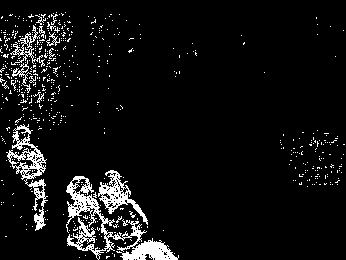person: (97, 167, 149, 260), (6, 125, 46, 231), (64, 174, 109, 260)
